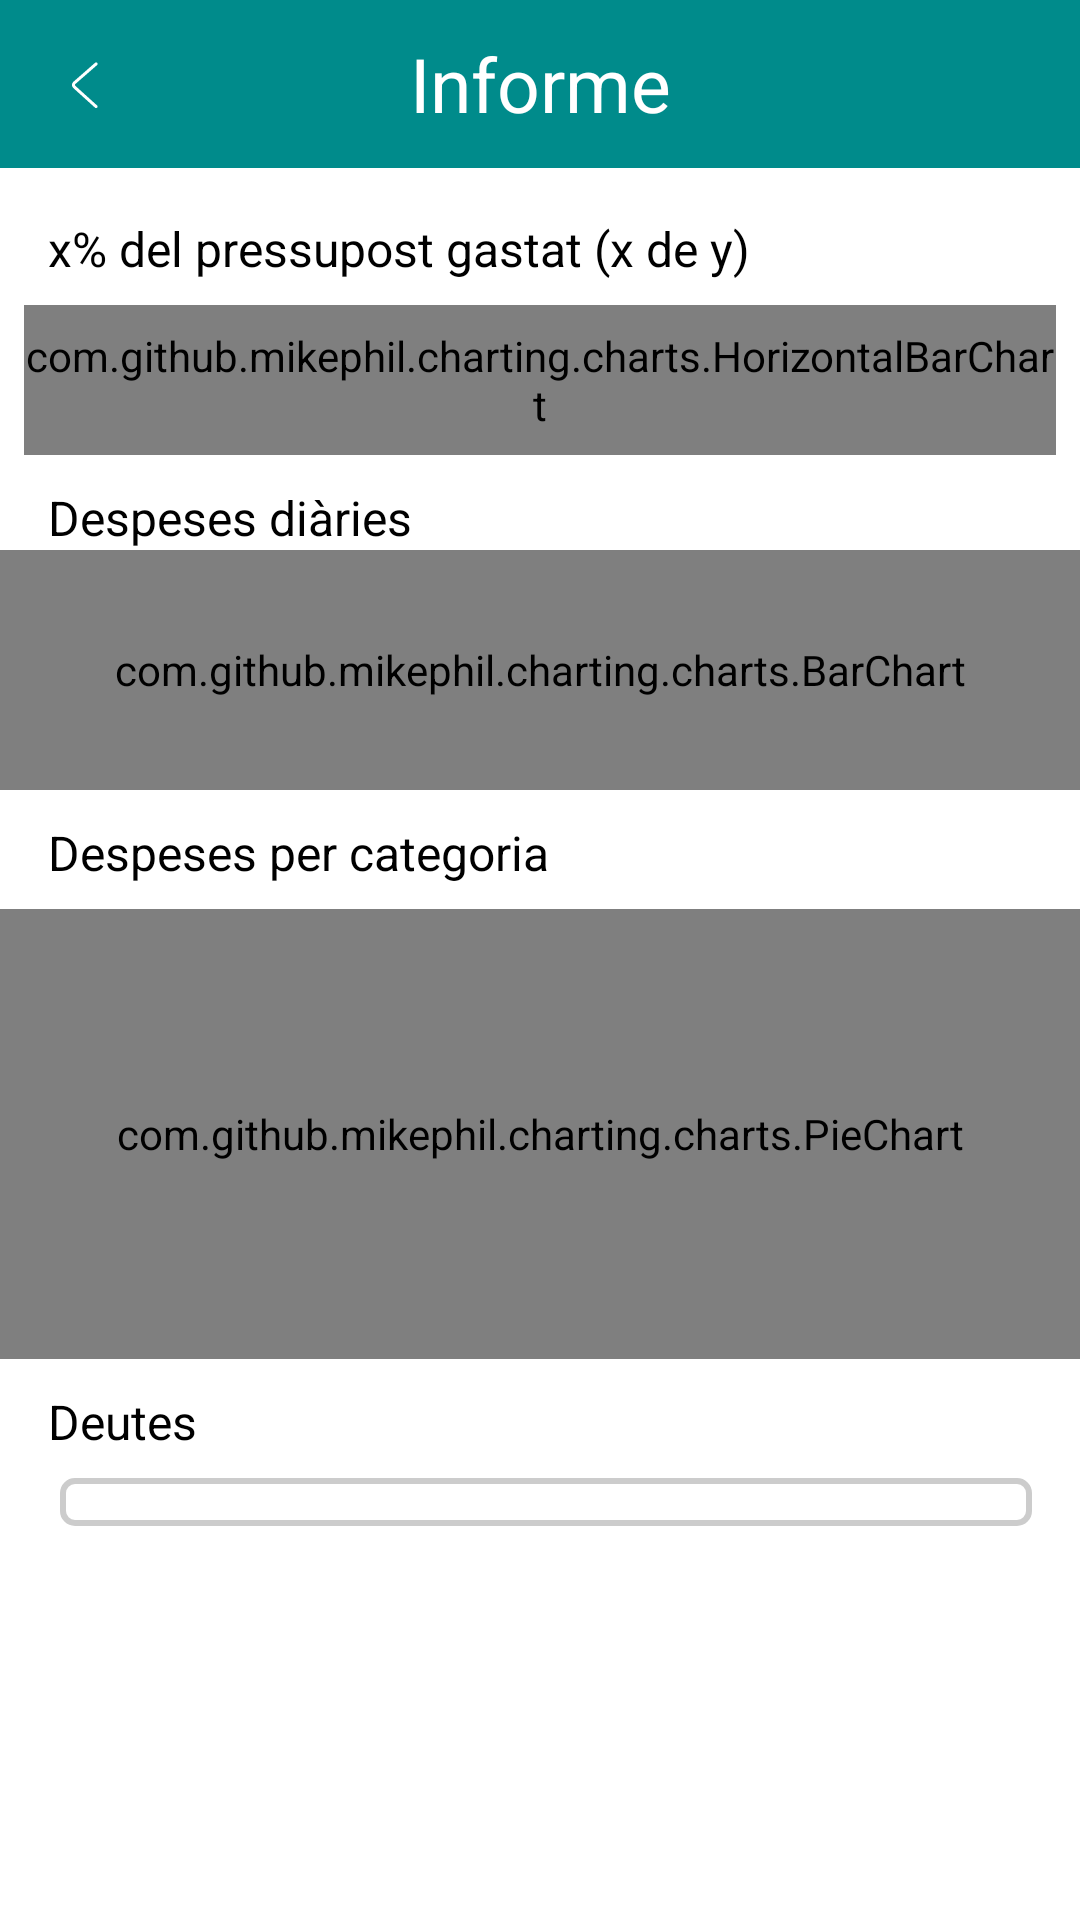

Icon click points for this 1080 × 1920 phone screenshot, format point (x, y):
back: point (85, 85)
